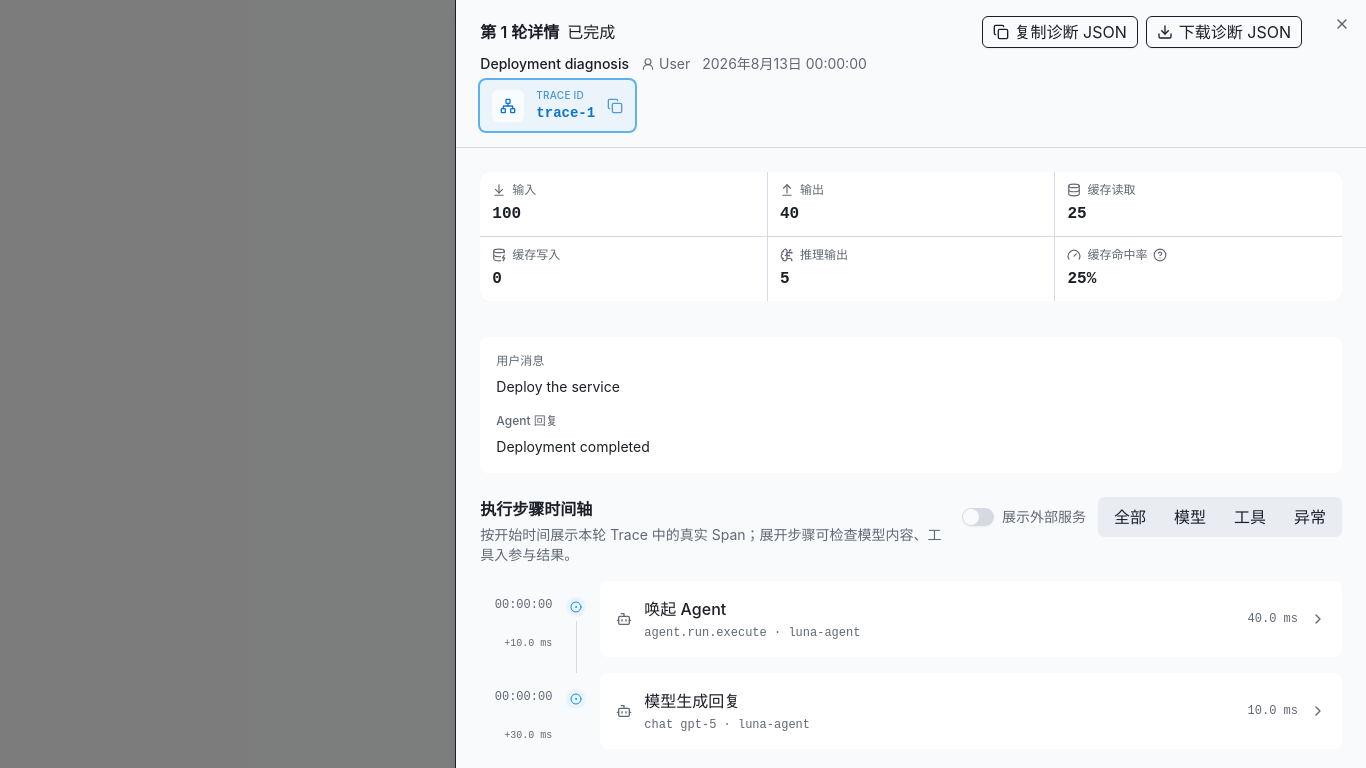
agent turn detail diagnostic actions › shows official cache-write and unavailable-usage Span attributes
Step 1. Click the button "模型生成回复 chat gpt-5 · luna-agent 10.0 ms" → (692, 701), box [600, 673, 1342, 749]
(page scrolled)
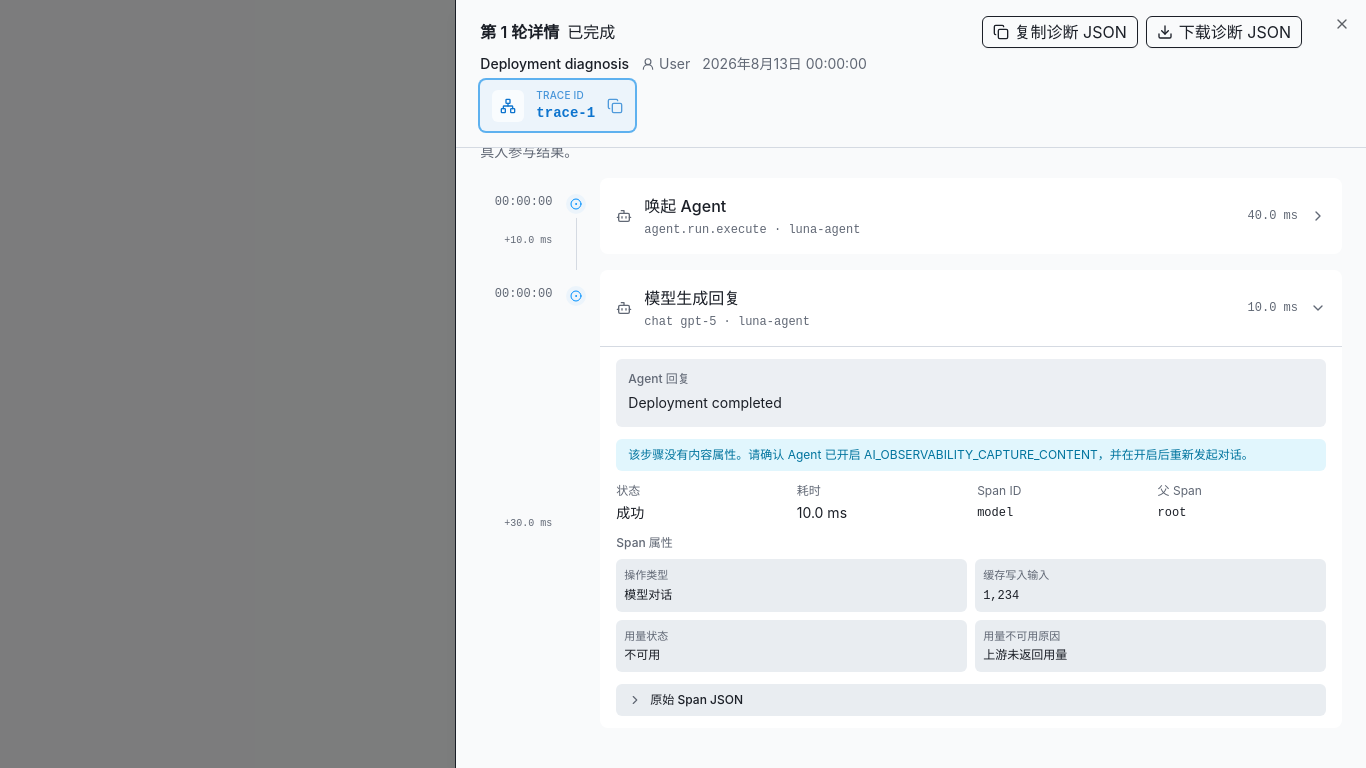
Result: the text "缓存写入输入" is shown at [983, 568, 1049, 582]
Result: the text "1,234" is shown at [983, 588, 1019, 602]
Result: the text "用量状态" is shown at [624, 628, 668, 642]
